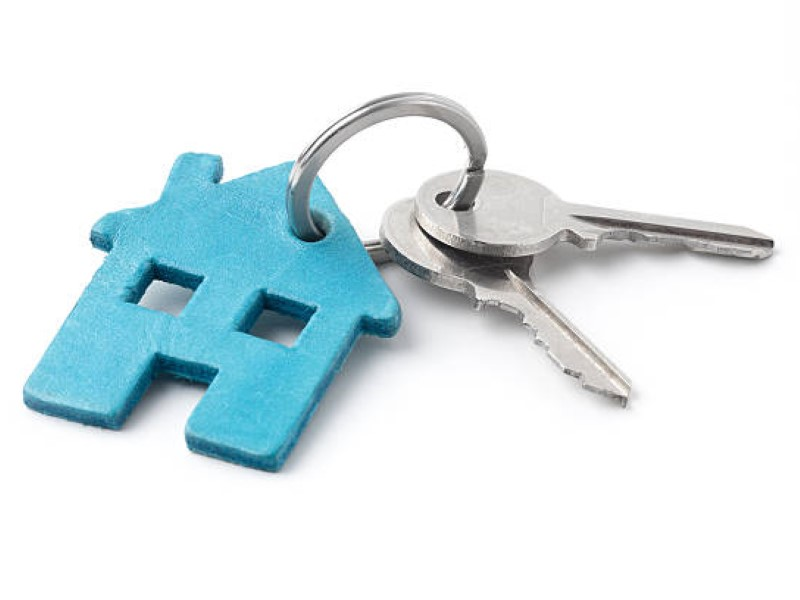key: (381, 168, 781, 420)
